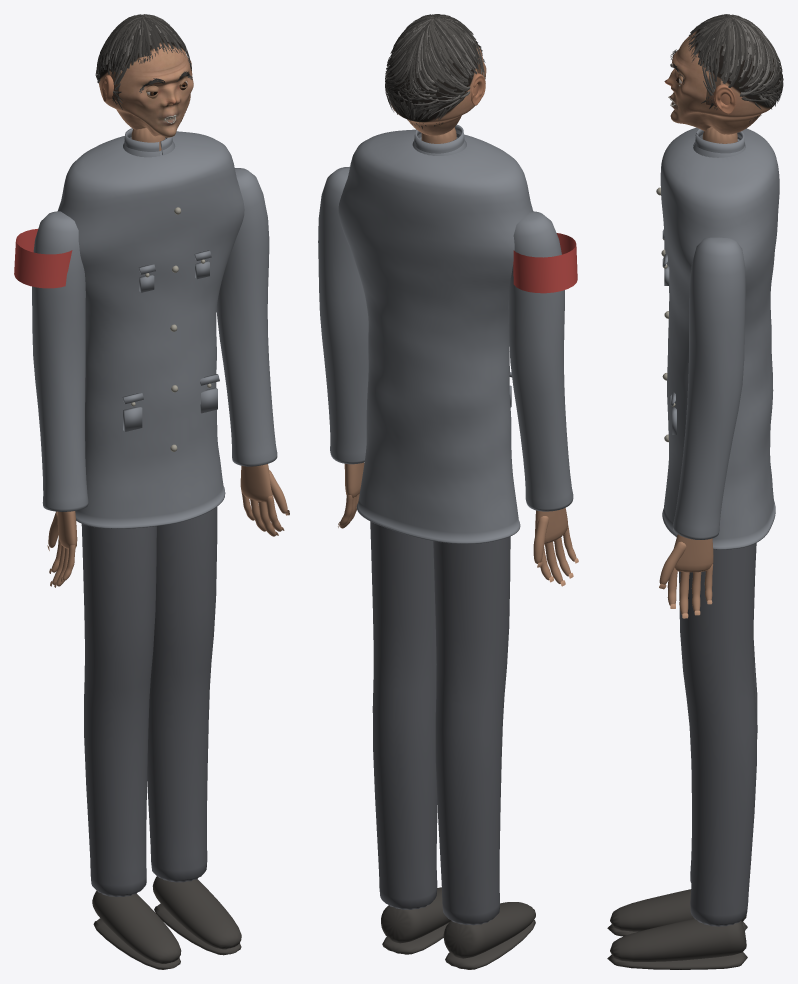
File: emcee.glb
The picture shows the model from 3 angles, left to right: view 1: azimuth 30°, elevation 25°; view 2: azimuth 150°, elevation 25°; view 3: azimuth 270°, elevation 25°; orthographic projection. The views are drawn at different scales.
Parts seen in each view (by area): view 1: Torso, LegL, LegR, SleeveL, SleeveR, Head, FootL, FootR, HairCards, HandR, Armband, HandL (+2 smaller); view 2: Torso, LegL, LegR, SleeveL, SleeveR, HairCards, FootL, FootR, Armband, Head, HandL, HandR (+1 smaller); view 3: Torso, LegR, SleeveR, HairCards, FootR, Head, HandR, FootL, Collar, EarR.
Boxes of the visible parts, x1,y1,x2,y2 form: Torso: [58, 131, 244, 528]; LegL: [81, 524, 156, 897]; LegR: [147, 507, 217, 882]; SleeveL: [32, 211, 88, 511]; SleeveR: [216, 168, 277, 466]; Head: [98, 33, 193, 137]; FootL: [92, 890, 181, 969]; FootR: [152, 876, 241, 955]; HairCards: [95, 14, 191, 109]; HandR: [240, 464, 287, 536]; Armband: [14, 229, 72, 288]; HandL: [48, 511, 77, 586]; Torso: [338, 129, 532, 543]; LegL: [433, 536, 510, 925]; LegR: [370, 521, 437, 909]; SleeveL: [508, 211, 573, 511]; SleeveR: [318, 166, 368, 464]; HairCards: [385, 14, 485, 128]; FootL: [443, 902, 535, 969]; FootR: [381, 887, 451, 954]; Armband: [513, 233, 577, 293]; Head: [387, 44, 486, 135]; HandL: [533, 508, 576, 583]; HandR: [339, 462, 364, 528]; Torso: [660, 127, 779, 549]; LegR: [679, 543, 756, 926]; SleeveR: [673, 237, 745, 539]; HairCards: [687, 14, 783, 122]; FootR: [607, 918, 747, 969]; Head: [664, 28, 780, 134]; HandR: [659, 534, 713, 614]; FootL: [607, 889, 747, 936]; Collar: [693, 128, 745, 157]; EarR: [713, 84, 735, 113].
Size of the model in its own units: 0.4838 by 1.71 by 0.2941.
17 materials, 2 textured.
